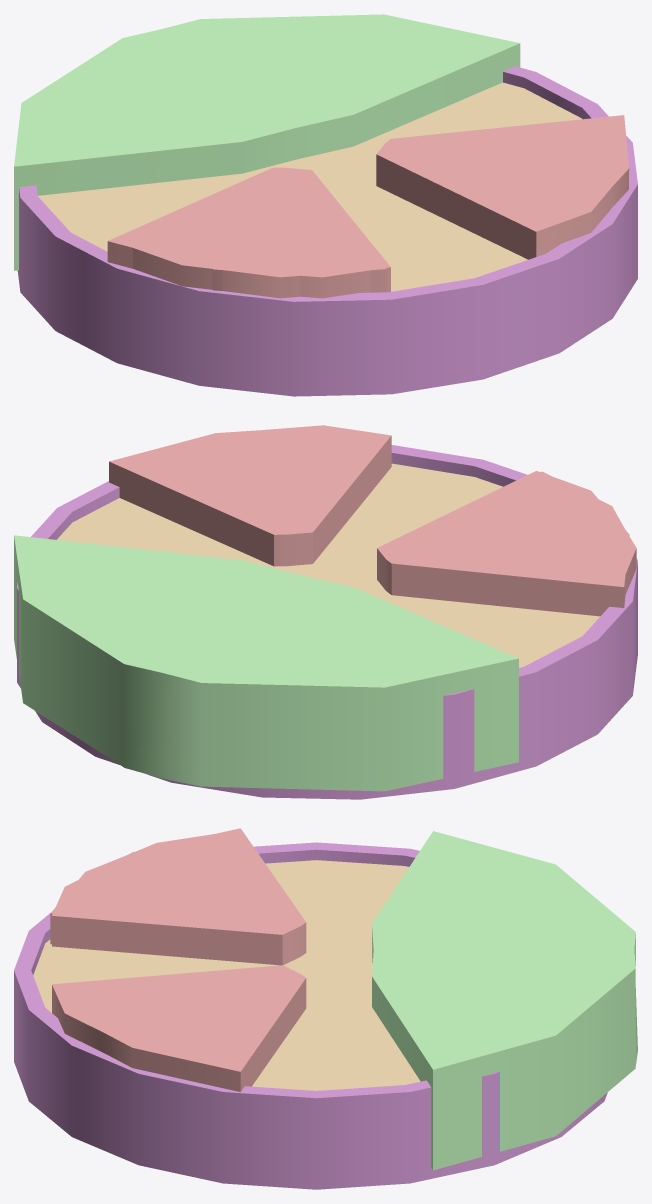
Rendered from HVArena4.fbx.
3 views of the same model, one above another, from view 1: azimuth 30°, elevation 25°; view 2: azimuth 150°, elevation 25°; view 3: azimuth 270°, elevation 25° (orthographic). The views are drawn at different scales.
Visible parts, largest first — view 1: polySurface1, pCube4, pCube5, pCylinder3, pCube1; view 2: pCube4, pCube5, polySurface1, pCylinder3, pCube1; view 3: pCube4, polySurface1, pCube5, pCylinder3, pCube1.
Part boxes in pixels (x1,y1,x2,y2): polySurface1: (17,66,637,396); pCube4: (14,14,520,270); pCube5: (107,115,629,298); pCylinder3: (38,82,582,291); pCube1: (133,171,386,298); pCube4: (14,535,518,791); pCube5: (109,425,629,616); polySurface1: (17,445,637,799); pCylinder3: (57,463,599,667); pCube1: (386,471,636,594); pCube4: (372,831,637,1170); polySurface1: (14,842,607,1189); pCube5: (52,828,306,1091); pCylinder3: (33,860,420,1090); pCube1: (50,833,302,944).
Bounding box in the file's own units: 19.45 × 3.97 × 20.05.
